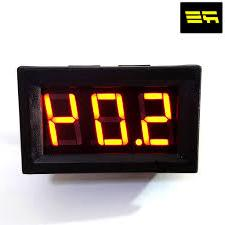.: (135, 138, 143, 148)
0: (90, 92, 127, 146)
4: (44, 92, 79, 146)
5: (142, 91, 174, 147)
